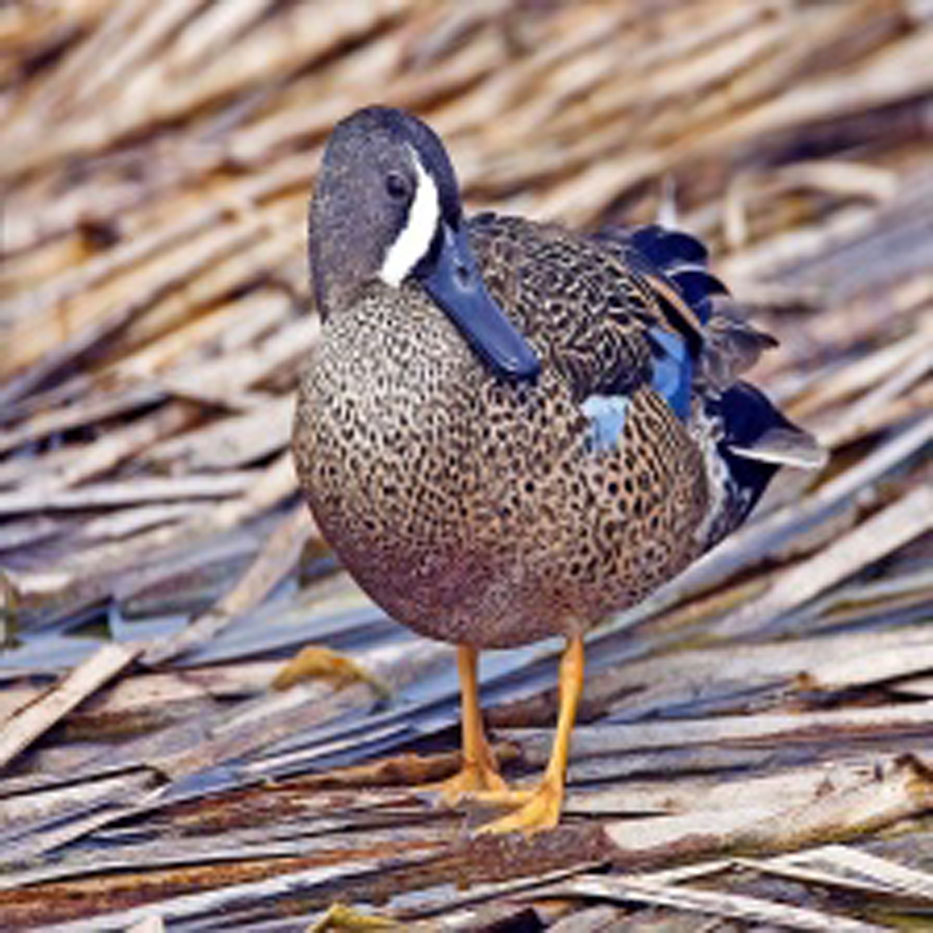Mencari Makan di Lumpur: (427, 239, 537, 397)
